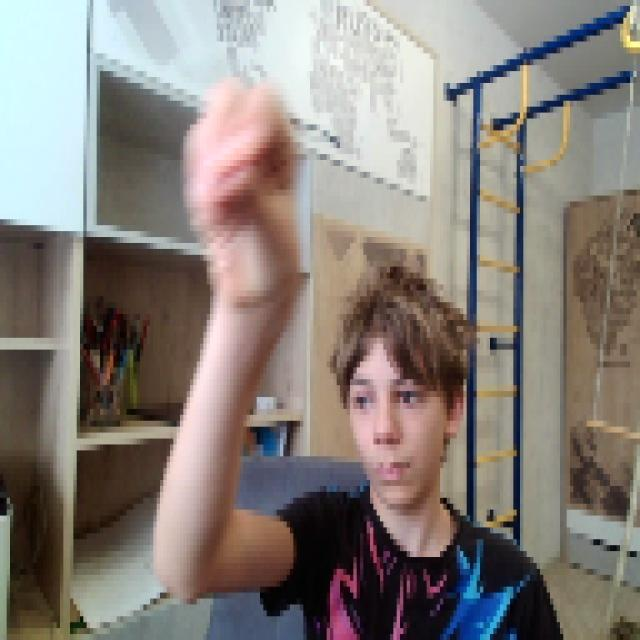left_click: (176, 65, 296, 302)
